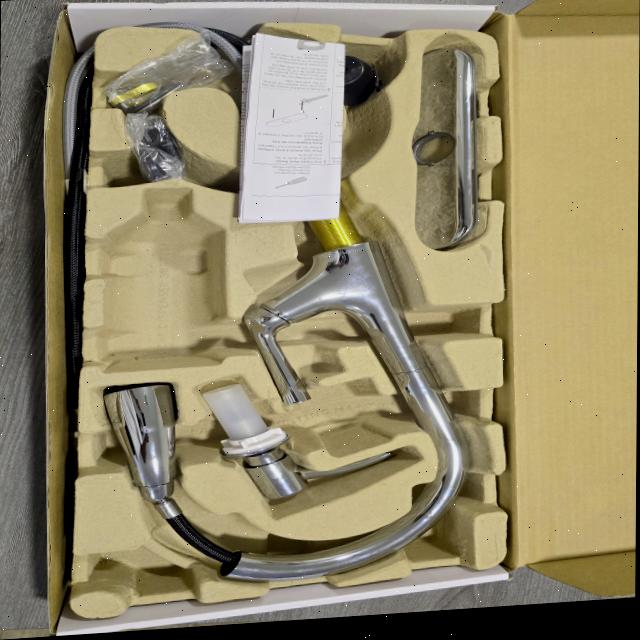1o: (103, 32, 469, 581)
2: (199, 382, 395, 501)
3m: (97, 186, 221, 369)
4: (411, 47, 476, 249)
5: (315, 56, 374, 106)
6: (101, 31, 229, 109)
7: (128, 113, 184, 177)
8: (238, 32, 343, 223)
